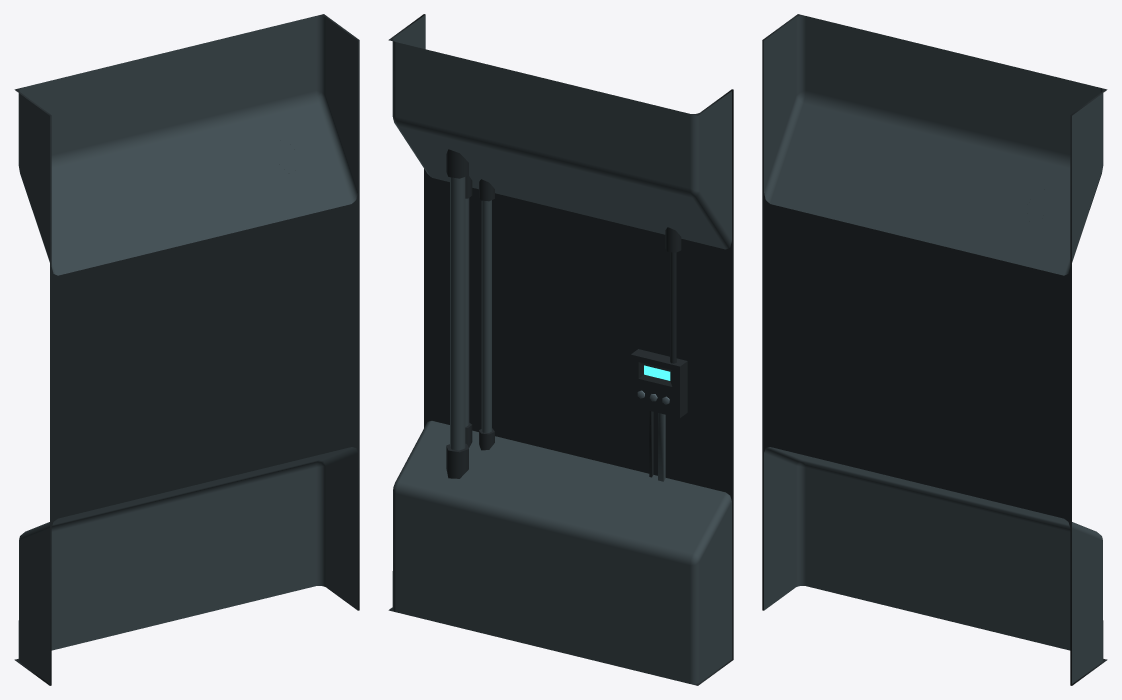
File: wallSmall03.fbx
3 views of the same model, side by side, from view 1: azimuth 30°, elevation 25°; view 2: azimuth 150°, elevation 25°; view 3: azimuth 330°, elevation 25° (orthographic).
Visible parts, largest first — view 1: wallSmall03; view 2: wallSmall03; view 3: wallSmall03.
Part boxes in pixels (x1,y1,x2,y2): wallSmall03: [14, 14, 359, 685]; wallSmall03: [388, 14, 733, 685]; wallSmall03: [762, 14, 1107, 685].
Bounding box in the file's own units: 2 × 0.4 × 3.52.
